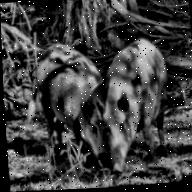boar: (21, 31, 126, 179), (92, 32, 180, 188)
